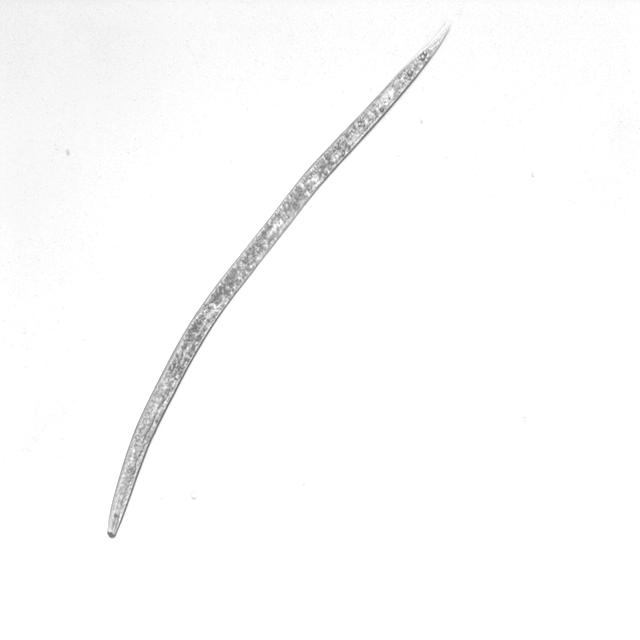Radopholus: (103, 10, 454, 556)
